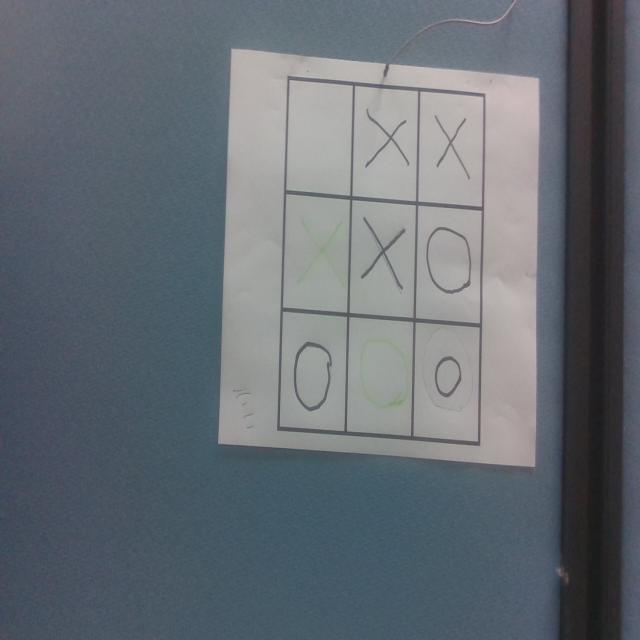null: (287, 79, 352, 198)
o: (360, 335, 410, 410), (426, 224, 473, 295), (292, 340, 332, 411), (434, 354, 462, 397)
table: (279, 76, 482, 446)
x: (296, 215, 347, 288), (363, 218, 404, 292), (366, 111, 410, 172), (434, 113, 471, 182)
